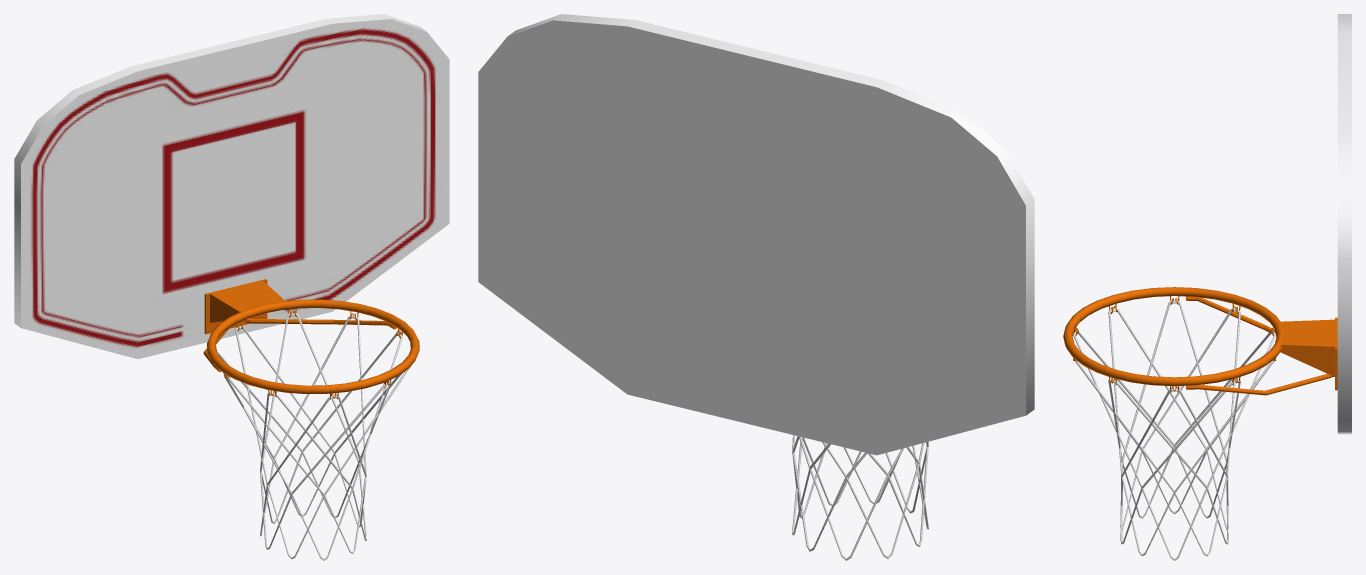
The model's file is sweethome3d-scopia-basketball-net-151.glb.
3 views of the same model, side by side, from view 1: azimuth 30°, elevation 25°; view 2: azimuth 150°, elevation 25°; view 3: azimuth 270°, elevation 25° (orthographic). The views are drawn at different scales.
Visible parts, largest first — view 1: Cube, Circle.001, BezierCircle_Mesh, Cube.001; view 2: Cube, Circle.001; view 3: Circle.001, Cube, BezierCircle_Mesh, Cube.001.
Boxes of the visible parts, x1=… form: Cube: x1=14, y1=14, x2=449, y2=359; Circle.001: x1=216, y1=313, x2=411, y2=560; BezierCircle_Mesh: x1=207, y1=299, x2=419, y2=393; Cube.001: x1=203, y1=279, x2=396, y2=371; Cube: x1=478, y1=14, x2=1034, y2=455; Circle.001: x1=792, y1=435, x2=928, y2=560; Circle.001: x1=1073, y1=301, x2=1275, y2=560; Cube: x1=1337, y1=14, x2=1351, y2=434; BezierCircle_Mesh: x1=1063, y1=287, x2=1283, y2=386; Cube.001: x1=1186, y1=296, x2=1337, y2=395.
Size of the model in its own units: 109 by 106 by 60.86.
Materials: 4 (2 with a texture image).
